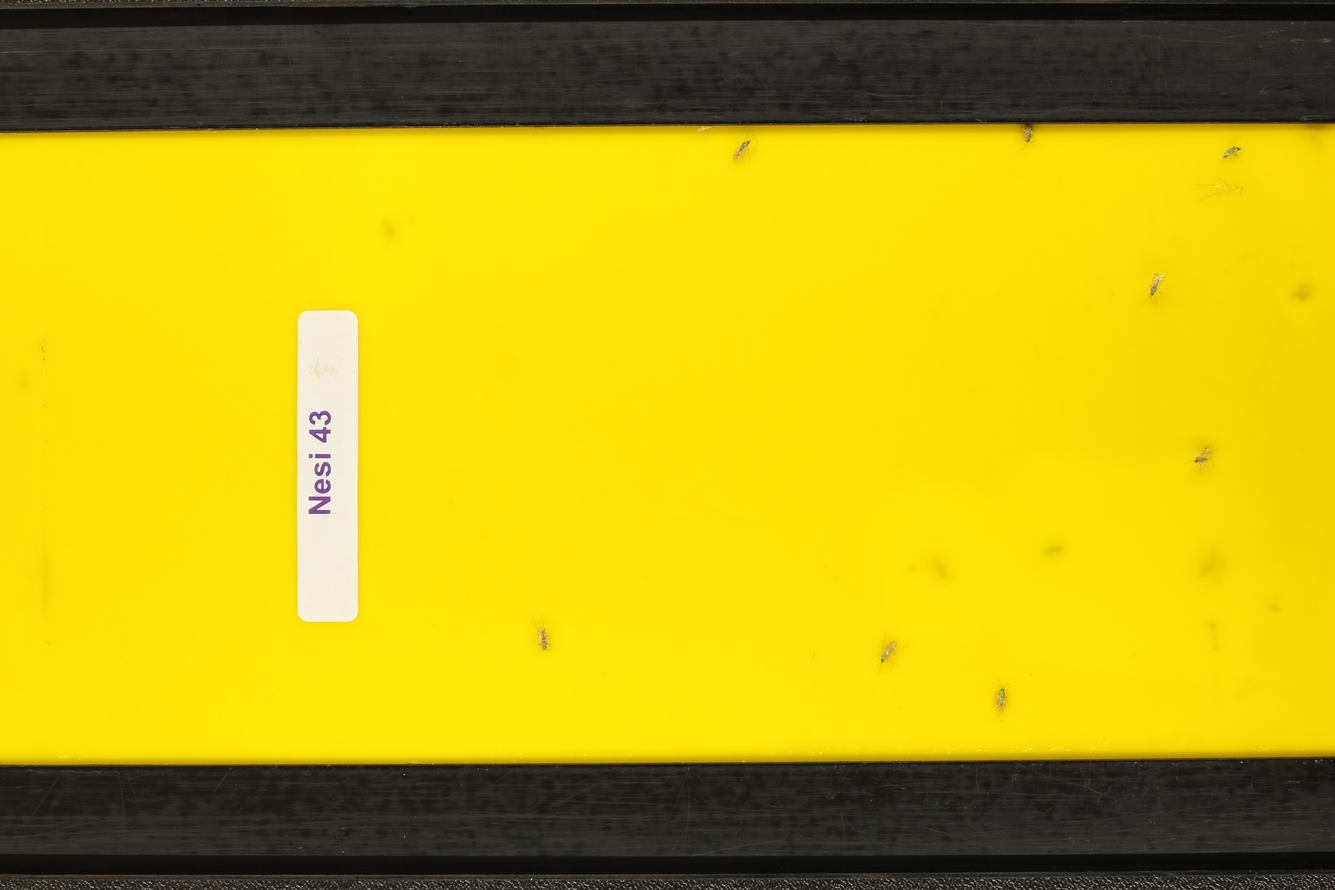NC: (869, 630, 910, 676), (729, 133, 763, 172), (1187, 441, 1227, 472), (528, 613, 555, 656), (1142, 269, 1169, 305), (1013, 117, 1040, 152), (988, 679, 1014, 715), (1219, 137, 1252, 163)
